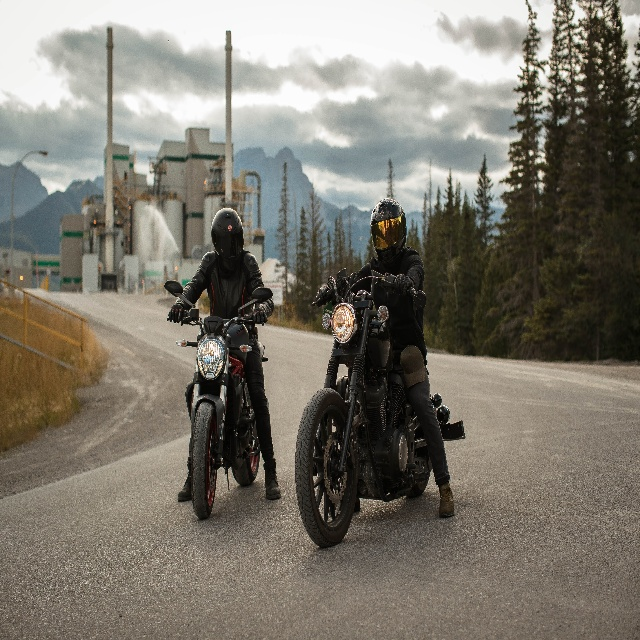Guantes: (394, 272, 415, 297), (168, 303, 185, 328), (251, 306, 267, 330), (315, 283, 329, 308)
